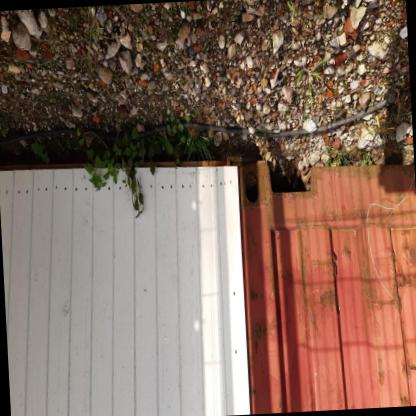CornerCasting: (232, 159, 276, 212)
